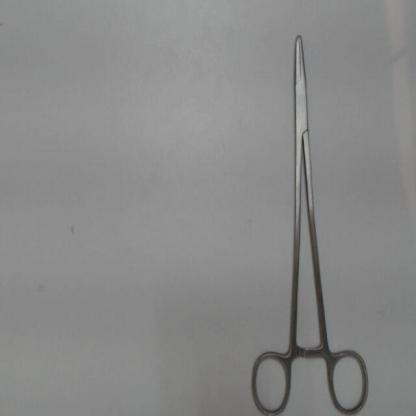8 Mayo Needle Holder: (243, 16, 373, 415)
